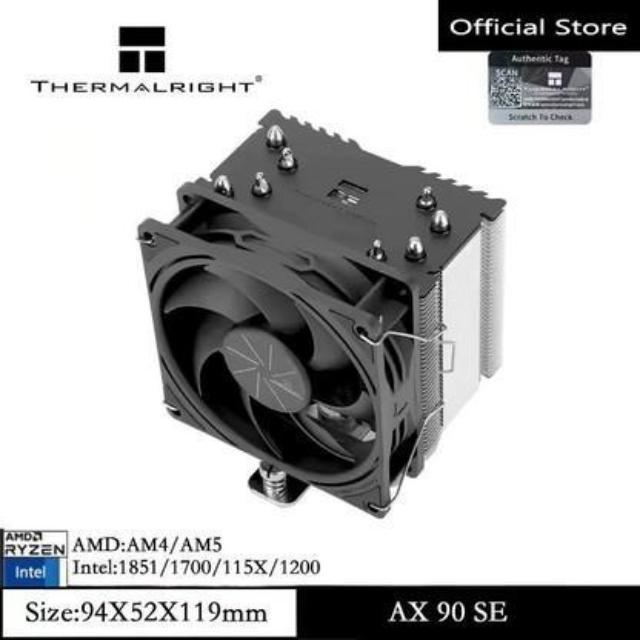CPU_Fan: (131, 104, 506, 524)
